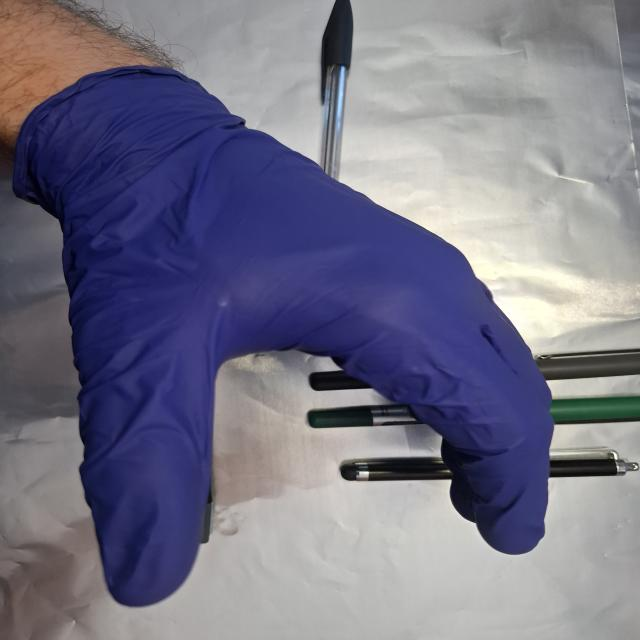glove_on: (18, 59, 559, 611)
